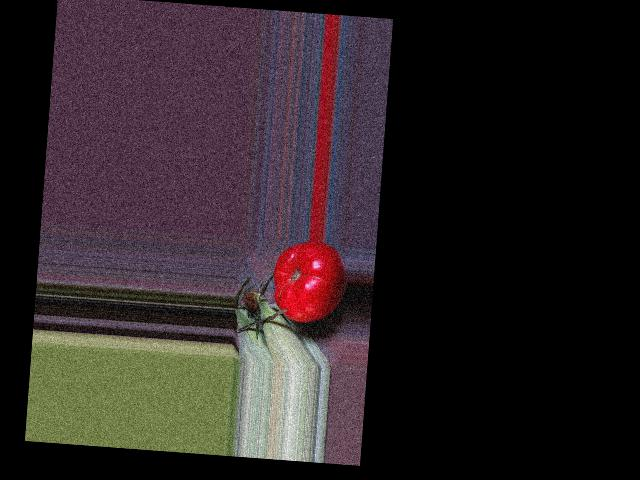tomato: (270, 239, 349, 325)
